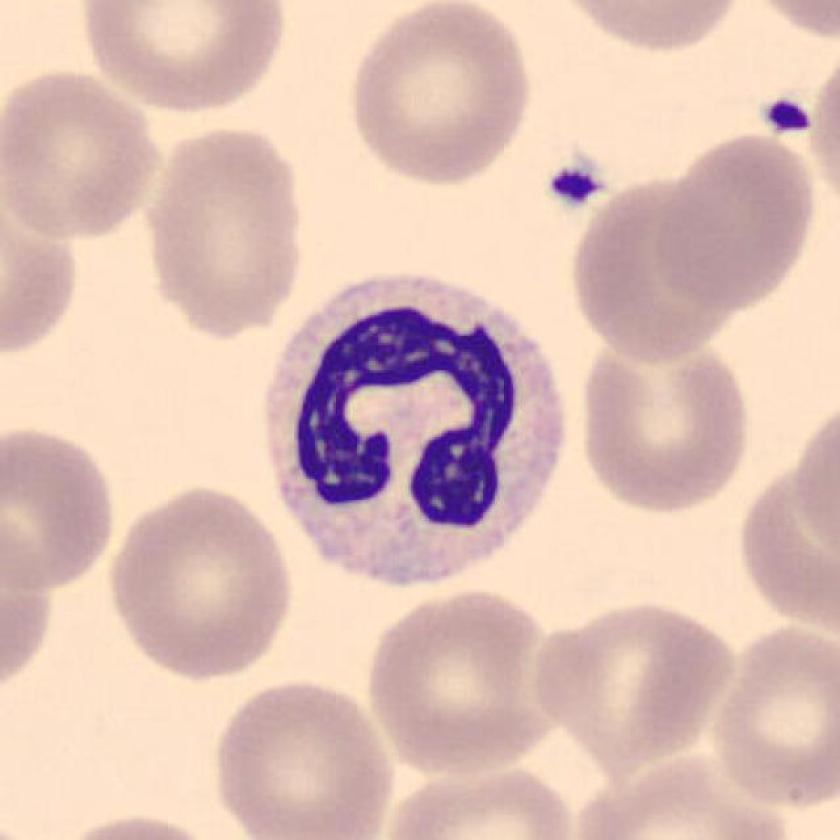neutrophil: (262, 273, 567, 576)
